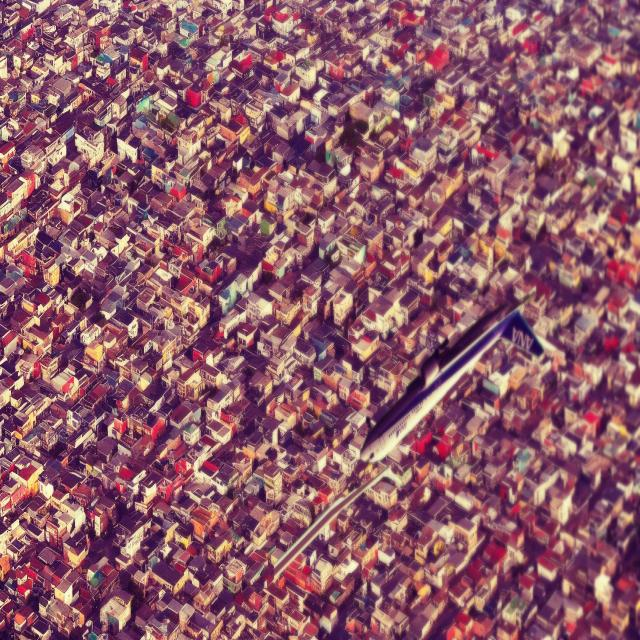airplane: (359, 284, 544, 464)
